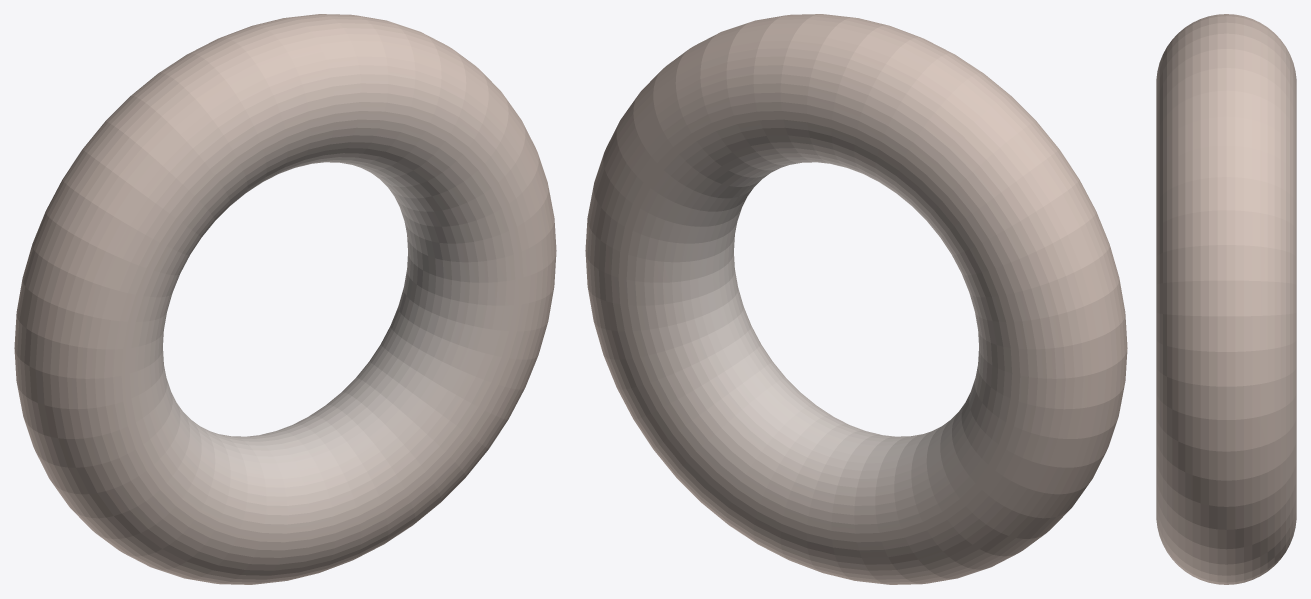
3 views of the same model, side by side, from view 1: azimuth 30°, elevation 25°; view 2: azimuth 150°, elevation 25°; view 3: azimuth 270°, elevation 25° (orthographic). The views are drawn at different scales.
Visible parts, largest first — view 1: world; view 2: world; view 3: world.
Part boxes in pixels (x1=…): world: x1=14, y1=14, x2=556, y2=584; world: x1=585, y1=14, x2=1127, y2=584; world: x1=1156, y1=14, x2=1296, y2=584.
Size of the model in its own units: 26.53 by 26.48 by 6.52.
